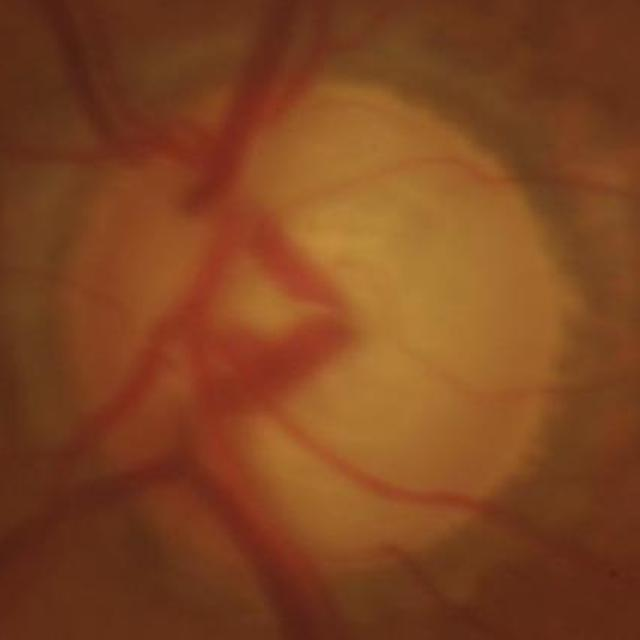OC: (208, 188, 429, 396)
OD: (51, 54, 569, 598)
